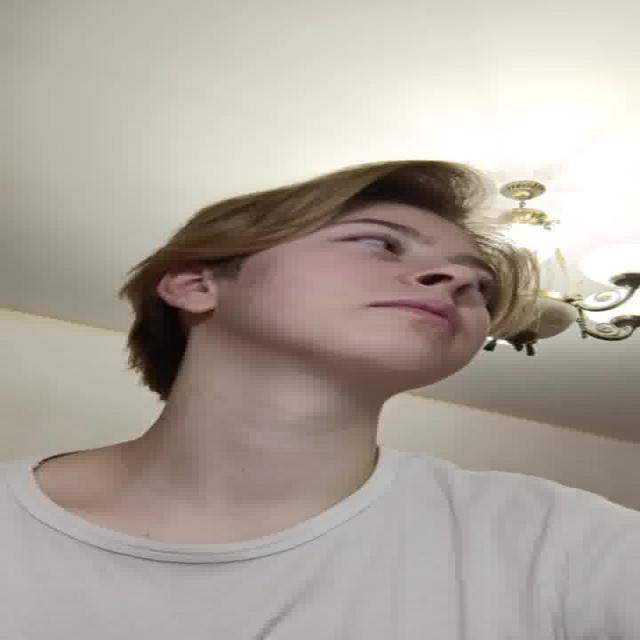earlobe: (178, 297, 218, 315)
eye: (334, 232, 404, 255)
nose: (407, 280, 468, 303)
wholeear: (156, 268, 216, 316)
